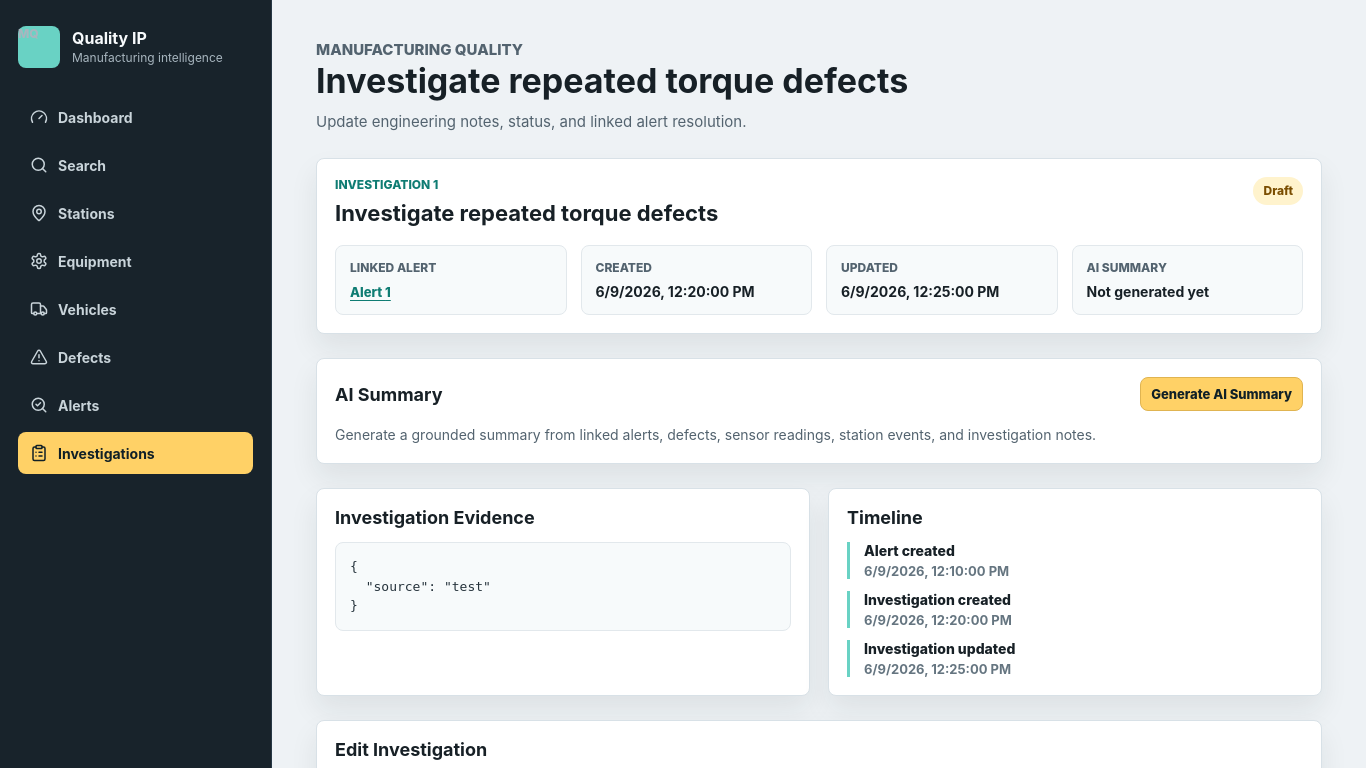
Test: Phase 11 workflow pages › renders AI summary fields after generation
The width and height of the screenshot is (1366, 768).
Click the button "Generate AI Summary" at x=1222, y=394, box [1140, 377, 1303, 411]
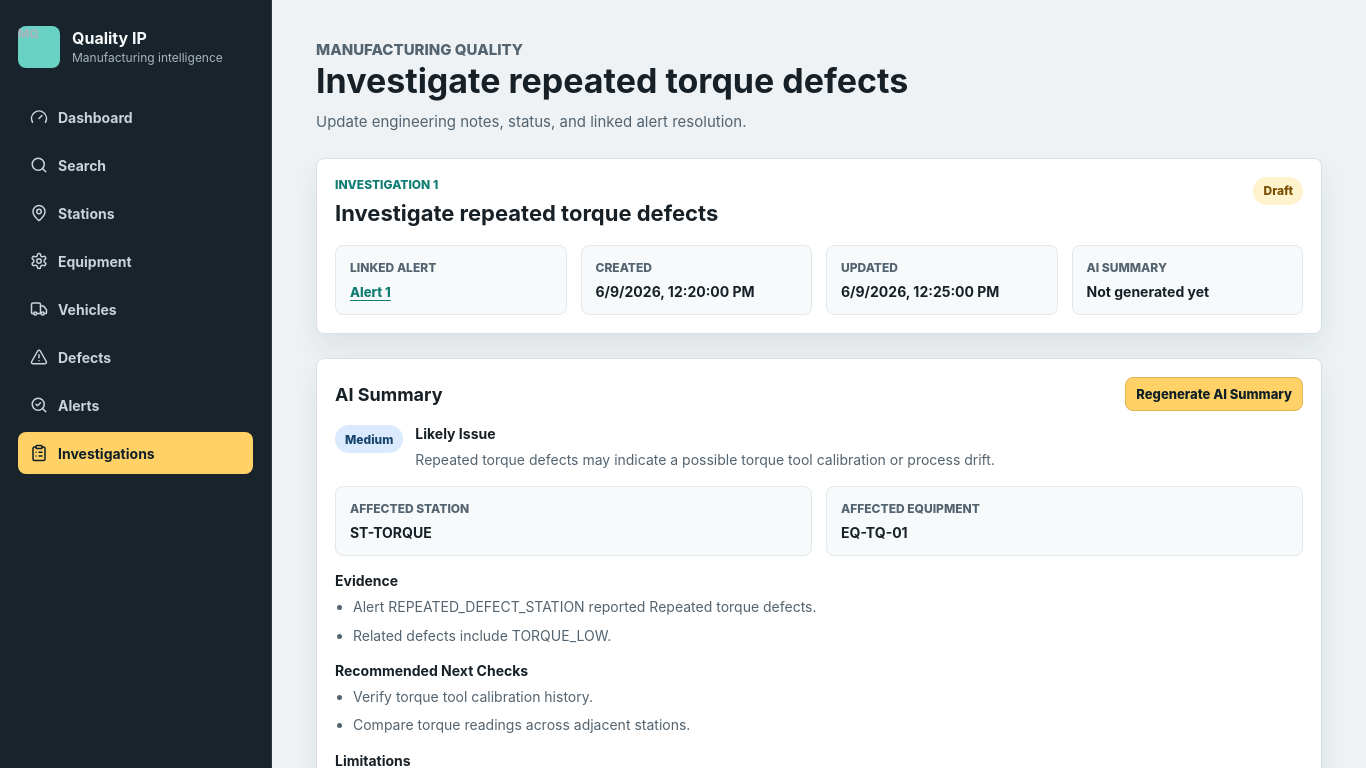
Expected: the text "Repeated torque defects may indicate" is shown, [415, 451, 995, 468]
Expected: the heading "Evidence" is shown, [335, 572, 398, 589]
Expected: the heading "Recommended Next Checks" is shown, [335, 662, 528, 679]
